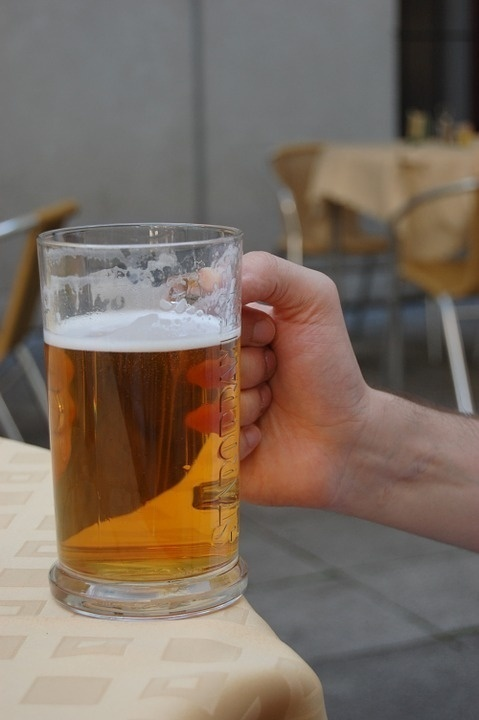whiskey: (53, 230, 245, 605)
